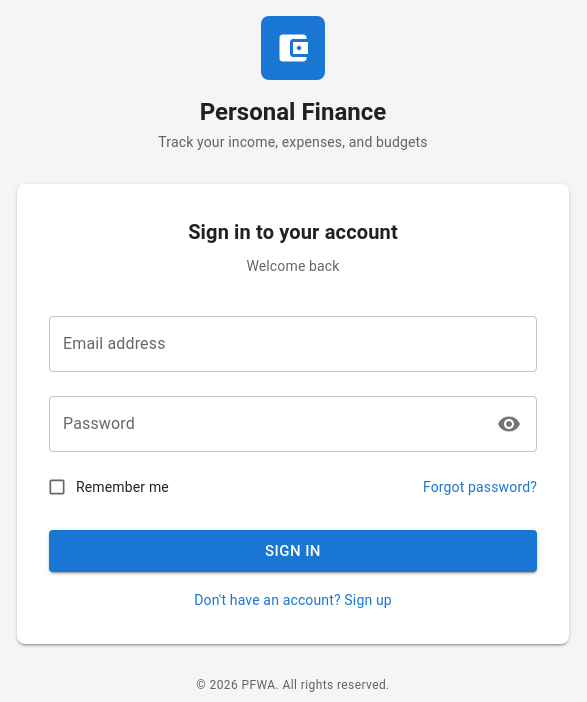
Scenario: LoginPage › should show validation error for empty email
Expected: the button "Sign in" is shown, left=49, top=530, right=537, bottom=572
// Type password only
Type "password123" into the password field labelled "Password" at [266, 424], box left=49, top=396, right=484, bottom=452
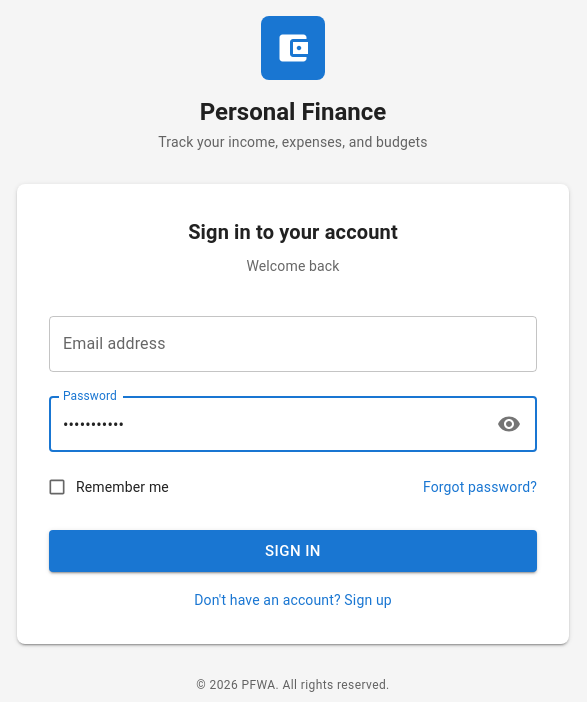
// Submit form
Click the button "Sign in" at [293, 551], box left=49, top=530, right=537, bottom=572
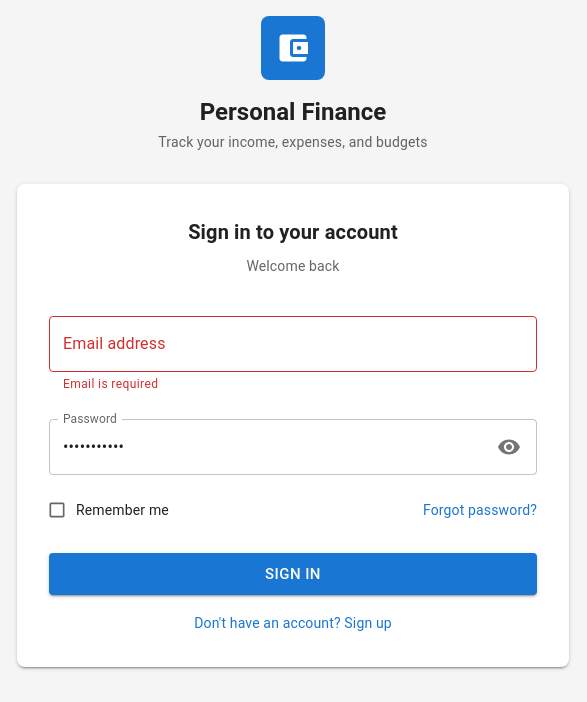
Result: the text "Email is required" is shown at left=63, top=377, right=158, bottom=391
